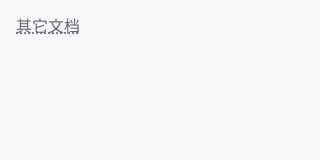
Test: M3 资源与交互装配 › Host 拒绝跳转时回退行内提示，不静默失败
Click the link "其它文档" at {"x": 48, "y": 26}, box left=16, top=16, right=80, bottom=37
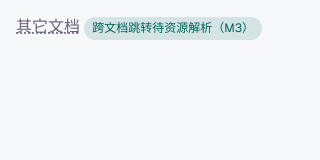
Expected: the message with class "readora-inline-note" reads "跨文档跳转待资源解析（M3）", left=92, top=20, right=254, bottom=36
